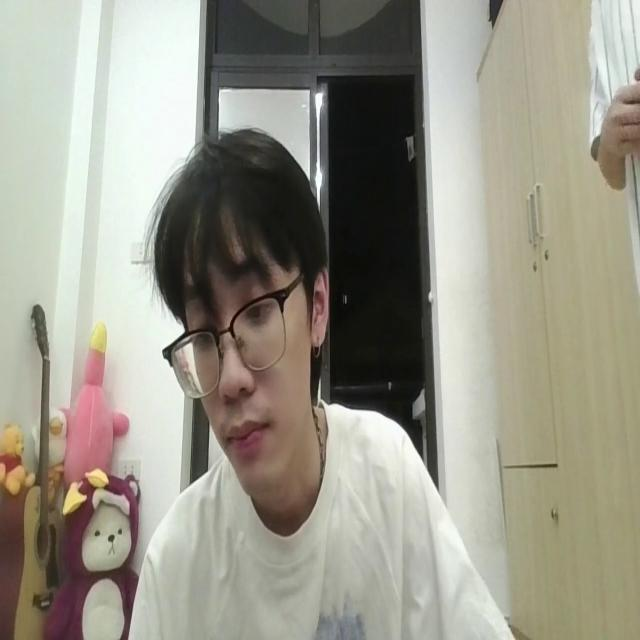student: (114, 124, 522, 640)
